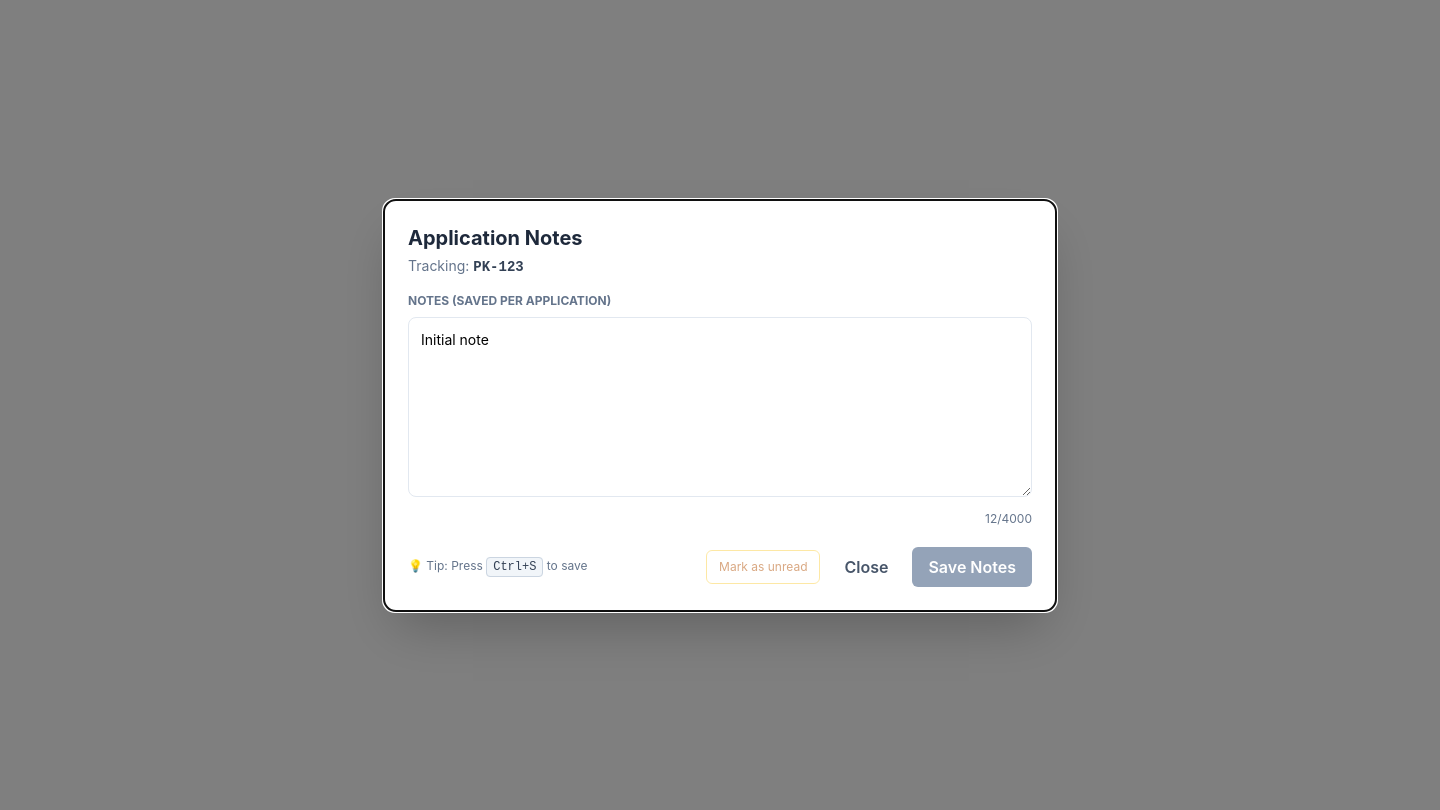
Passport NotesModal › keeps save enabled after editing notes
Expected: the button "Save Notes" is disabled, [912, 546, 1032, 586]
Replace the text in the text box labelled "Notes (saved per application)" with "Initial note updated" at point(720, 406), box [408, 316, 1032, 496]
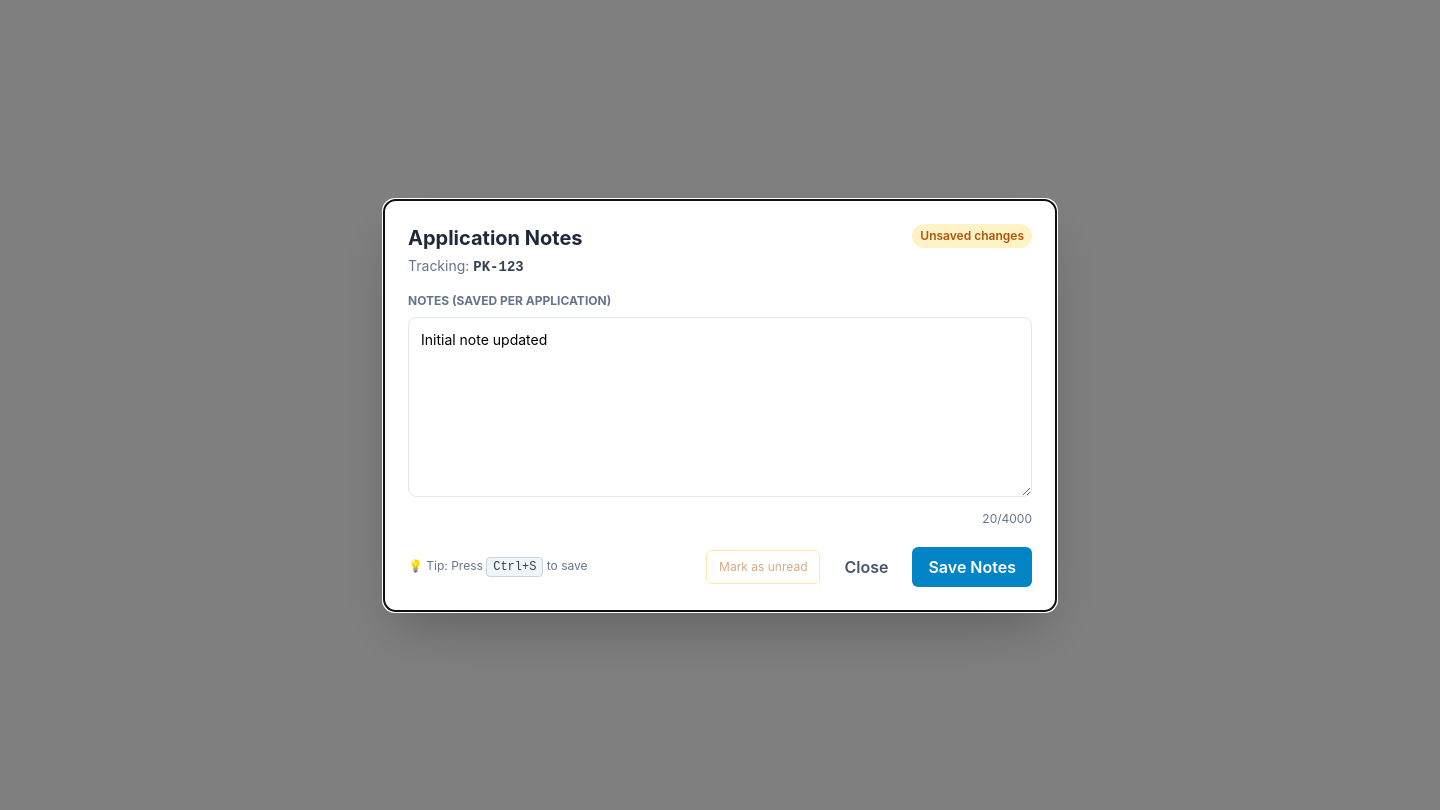
Expected: the button "Save Notes" is enabled, [912, 546, 1032, 586]
